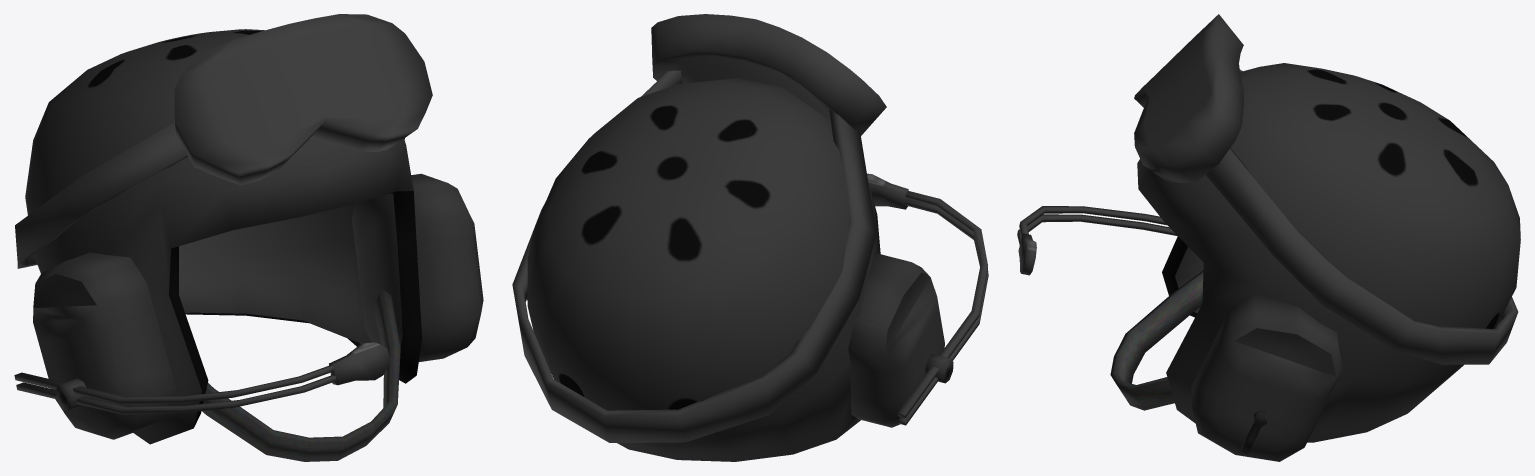
The model's file is MilitaryTacticalHelmetGoggles_WorldItem.fbx.
3 views of the same model, side by side, from view 1: azimuth 30°, elevation 25°; view 2: azimuth 150°, elevation 25°; view 3: azimuth 270°, elevation 25° (orthographic). The views are drawn at different scales.
Parts seen in each view (by area): view 1: Plane.009_Plane.003; view 2: Plane.009_Plane.003; view 3: Plane.009_Plane.003.
Part boxes in pixels (x1,y1,x2,y2): Plane.009_Plane.003: (14, 14, 483, 461); Plane.009_Plane.003: (512, 14, 988, 461); Plane.009_Plane.003: (1017, 14, 1520, 461).
Bounding box in the file's own units: 0.4374 × 0.3959 × 0.5038.
